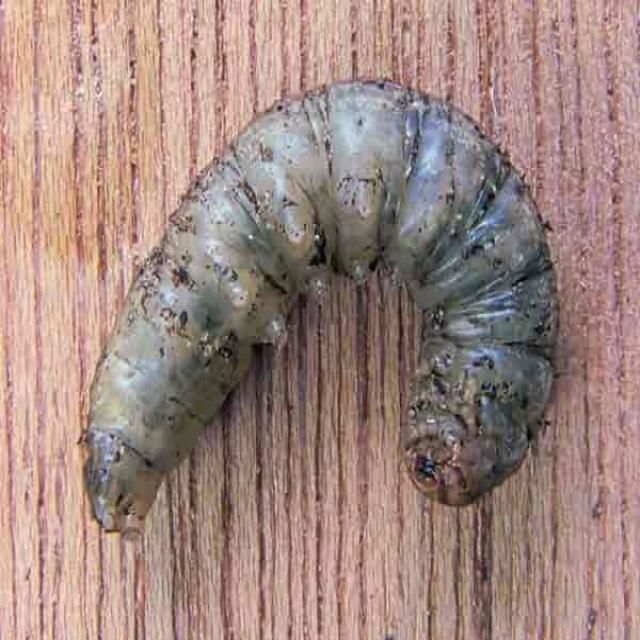Cutworm: (89, 76, 561, 554)
